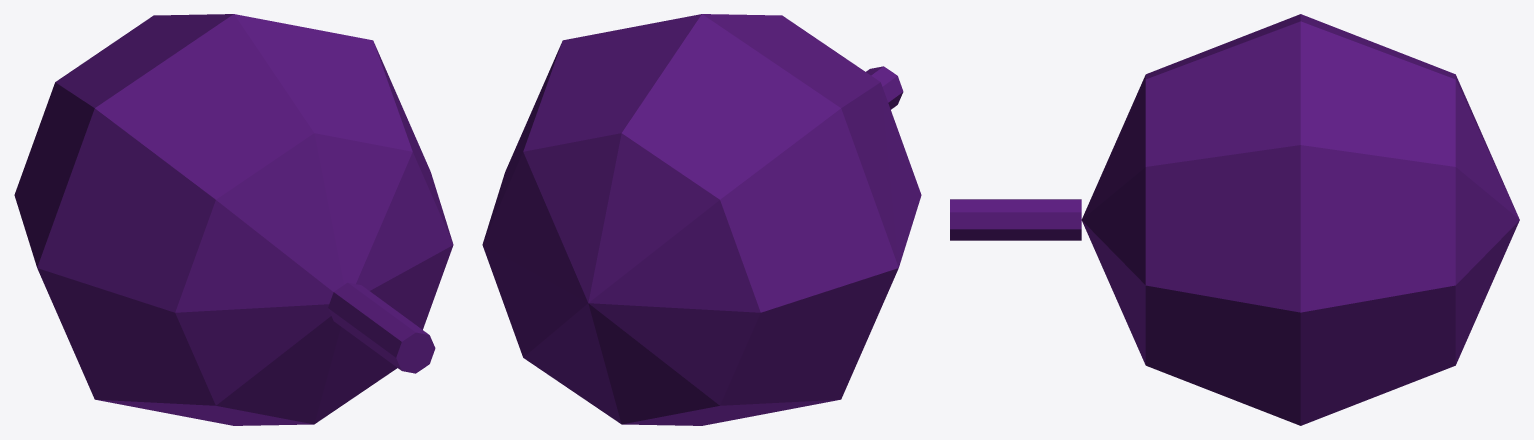
The model's file is witch_plum.obj.
The picture shows the model from 3 angles, left to right: view 1: azimuth 30°, elevation 25°; view 2: azimuth 150°, elevation 25°; view 3: azimuth 270°, elevation 25°; orthographic projection. The views are drawn at different scales.
Bounding box in the file's own units: 1 × 1 × 1.3.
